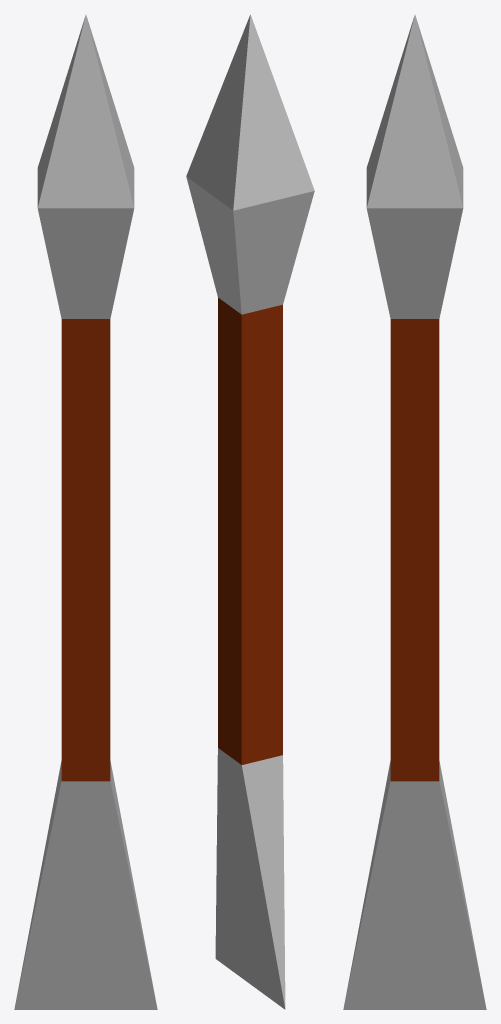
Rendered from arrow.obj.
The picture shows the model from 3 angles, left to right: view 1: azimuth 90°, elevation 25°; view 2: azimuth 210°, elevation 25°; view 3: azimuth 270°, elevation 25°; orthographic projection. The views are drawn at different scales.
Parts seen in each view (by area): view 1: arrow; view 2: arrow; view 3: arrow.
Boxes of the visible parts, bbox=[...] form: arrow: bbox=[14, 15, 157, 1009]; arrow: bbox=[186, 14, 314, 1009]; arrow: bbox=[343, 15, 486, 1009].
Size of the model in its own units: 0.0445 by 0.5062 by 0.066.
